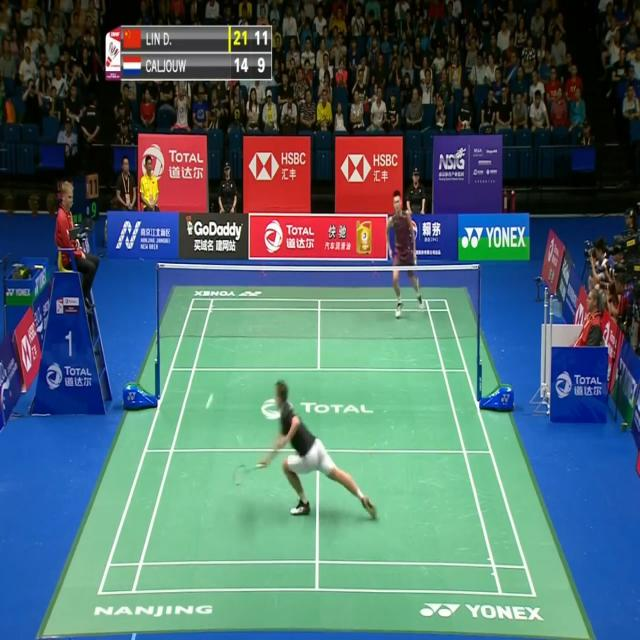Player1: (251, 370, 378, 525)
Player2: (382, 189, 426, 322)
